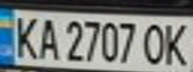0: (100, 18, 121, 63)
2: (60, 16, 84, 62)
7: (118, 19, 142, 64), (81, 17, 103, 63)
A: (33, 15, 60, 61)
K: (160, 19, 193, 69), (9, 12, 42, 60)
O: (139, 19, 169, 66)
